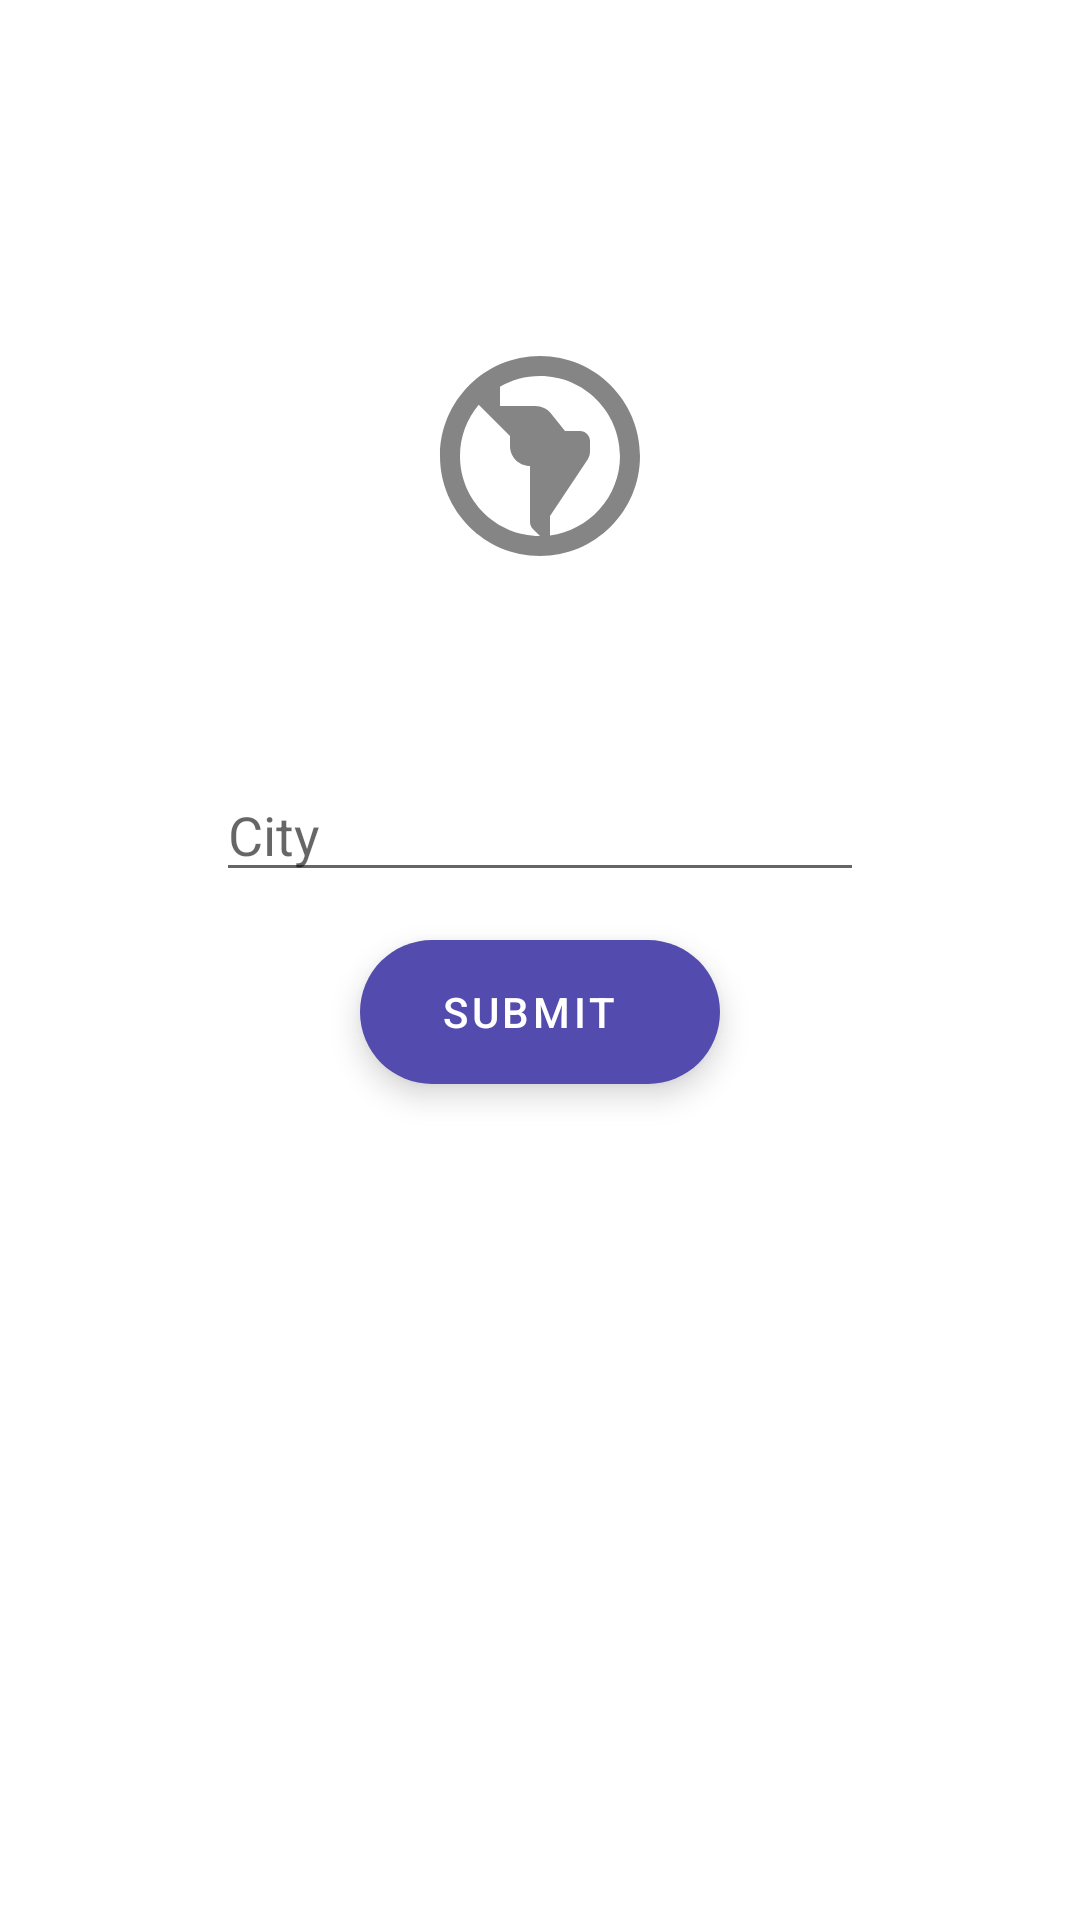

Named icons in this screenshot (1080*1920) and their centers, point (x, y):
globe: point (540, 456)
